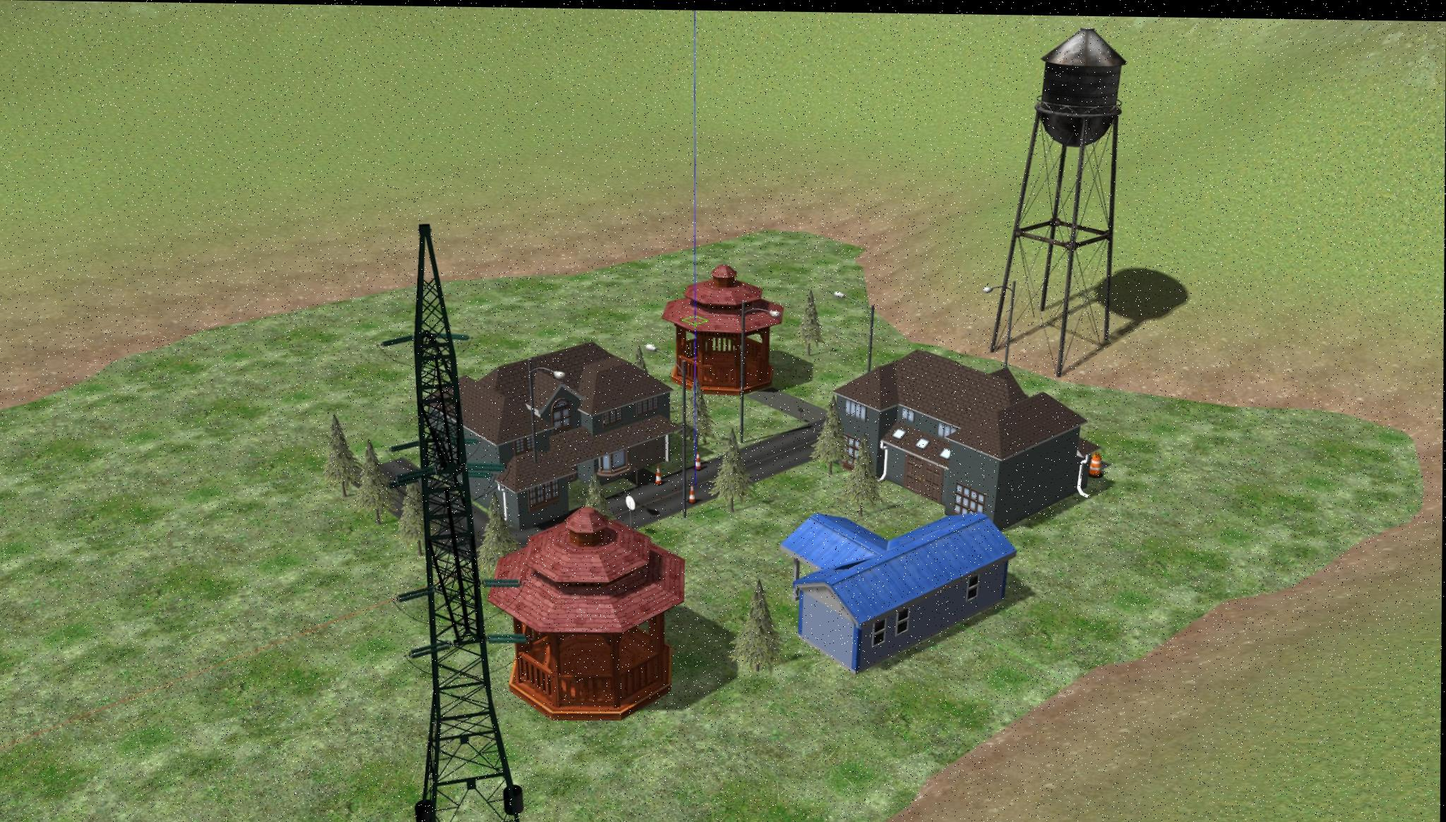tower: (385, 222, 531, 822)
